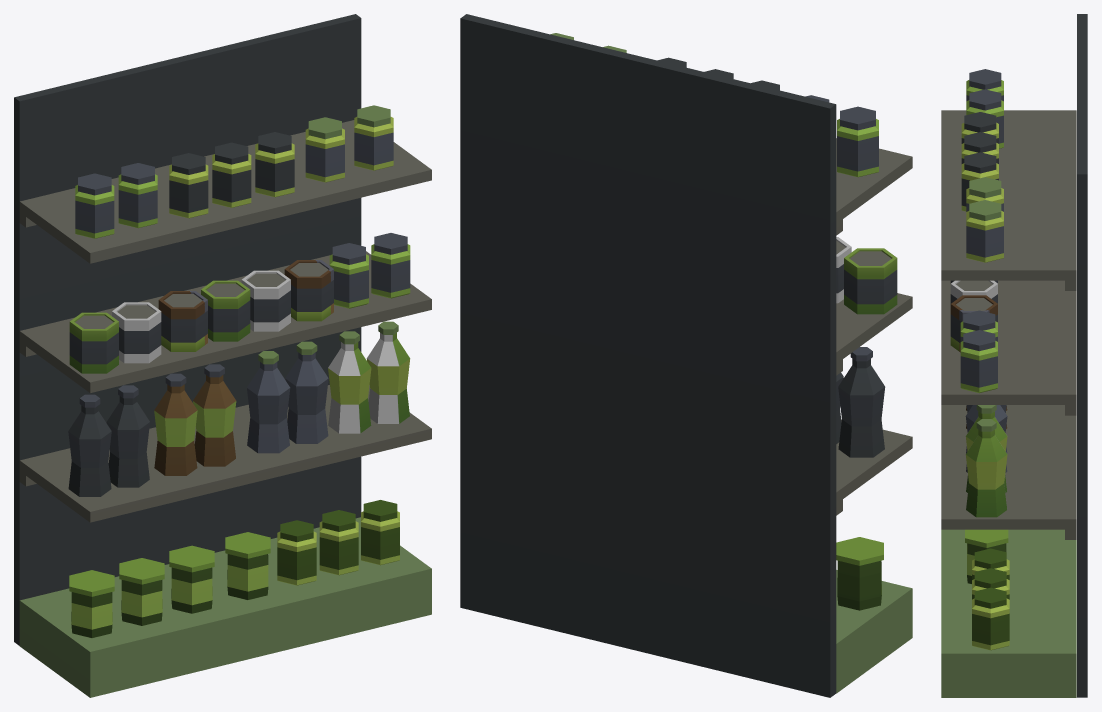
Rendered from SuperMarketPart_03.fbx.
3 views of the same model, side by side, from view 1: azimuth 30°, elevation 25°; view 2: azimuth 150°, elevation 25°; view 3: azimuth 270°, elevation 25° (orthographic). The views are drawn at different scales.
Visible parts, largest first — view 1: SuperMarketPart_03; view 2: SuperMarketPart_03; view 3: SuperMarketPart_03.
Part boxes in pixels (<box>): SuperMarketPart_03: <box>14,14,431,697</box>; SuperMarketPart_03: <box>460,14,912,697</box>; SuperMarketPart_03: <box>941,14,1087,697</box>.
Size of the model in its own units: 1.12 by 1.7 by 0.4298.
